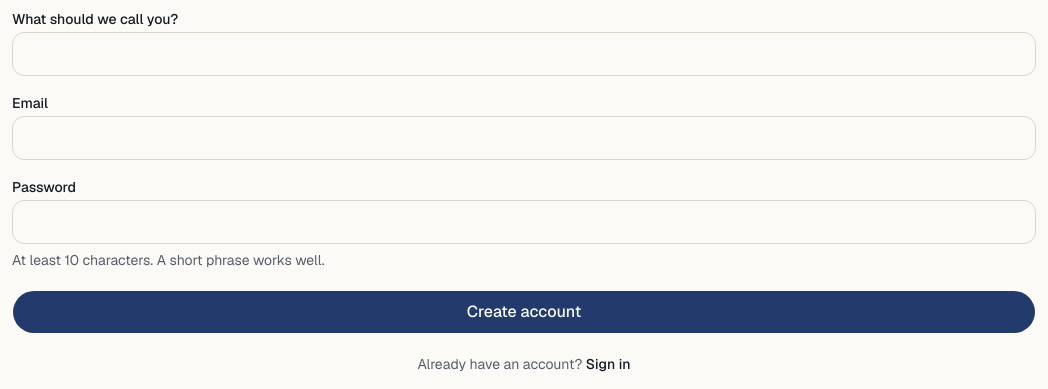
Test: RegisterForm › enforces the minimum password length before submitting
In the field labelled "What should we call you?": [524, 54] box [12,32,1036,76], type "Maya"
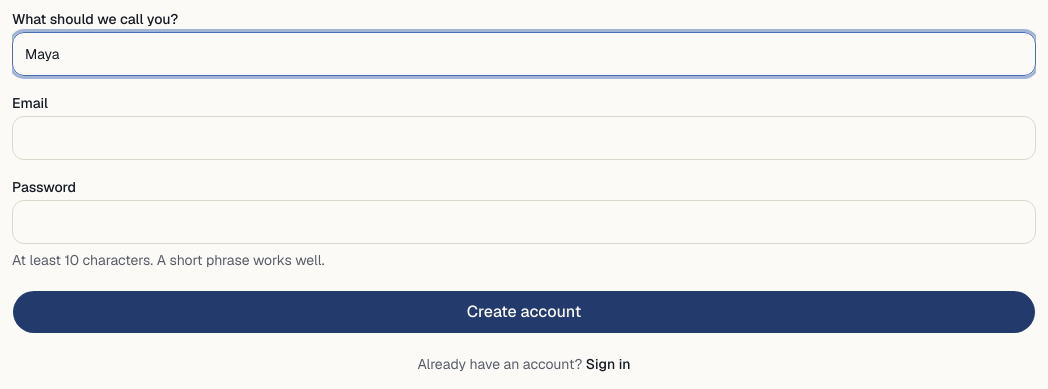
In the field labelled "Email": [524, 138] box [12,116,1036,160], type "maya@example.com"
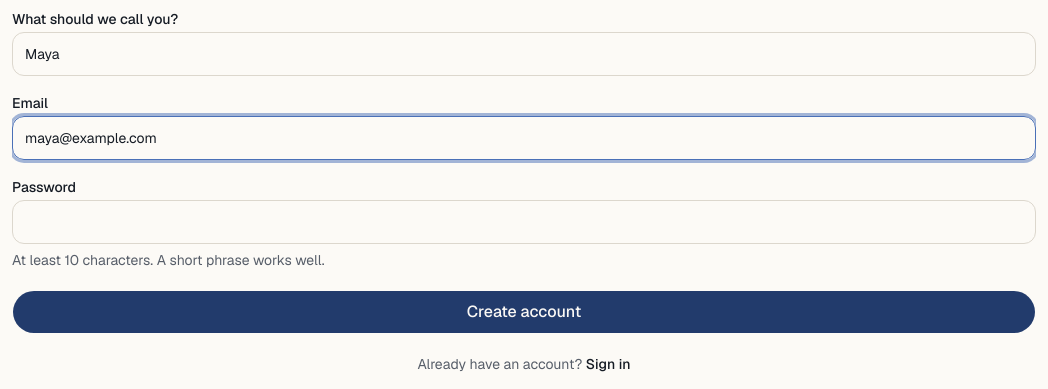
In the password field labelled "Password": [524, 222] box [12,200,1036,244], type "short"
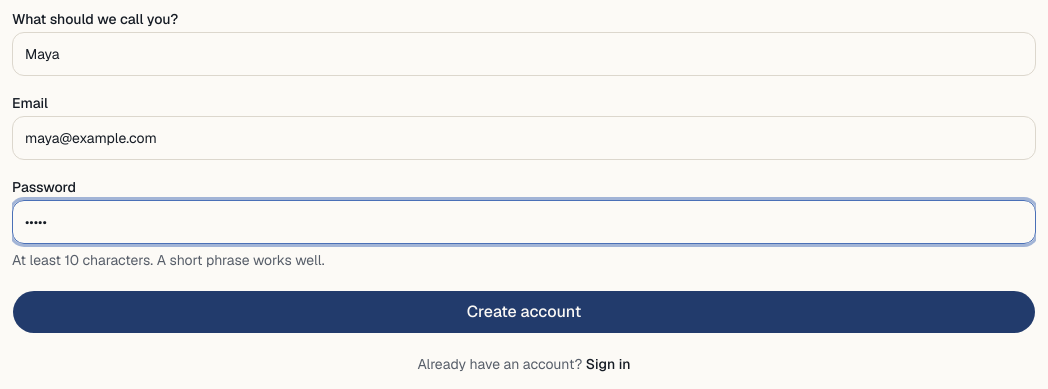
Click the button "Create account": [524, 312] box [12,290,1036,334]
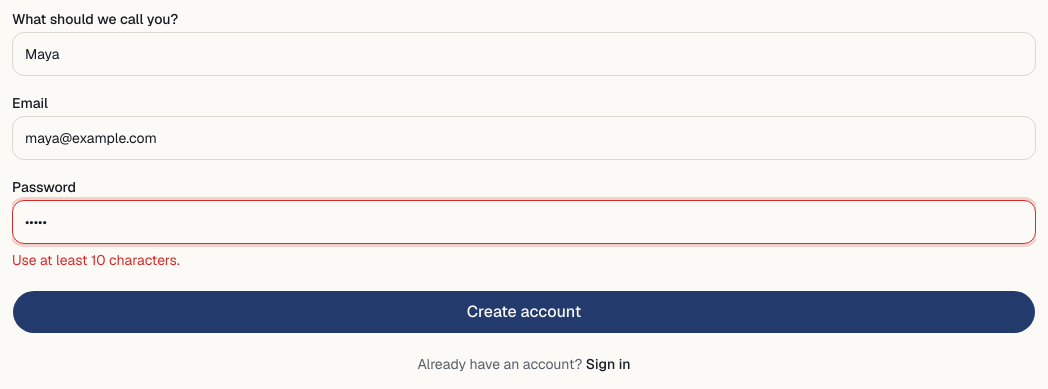
Expected: the text "Use at least 10 characters." is shown, [12,251,180,269]
